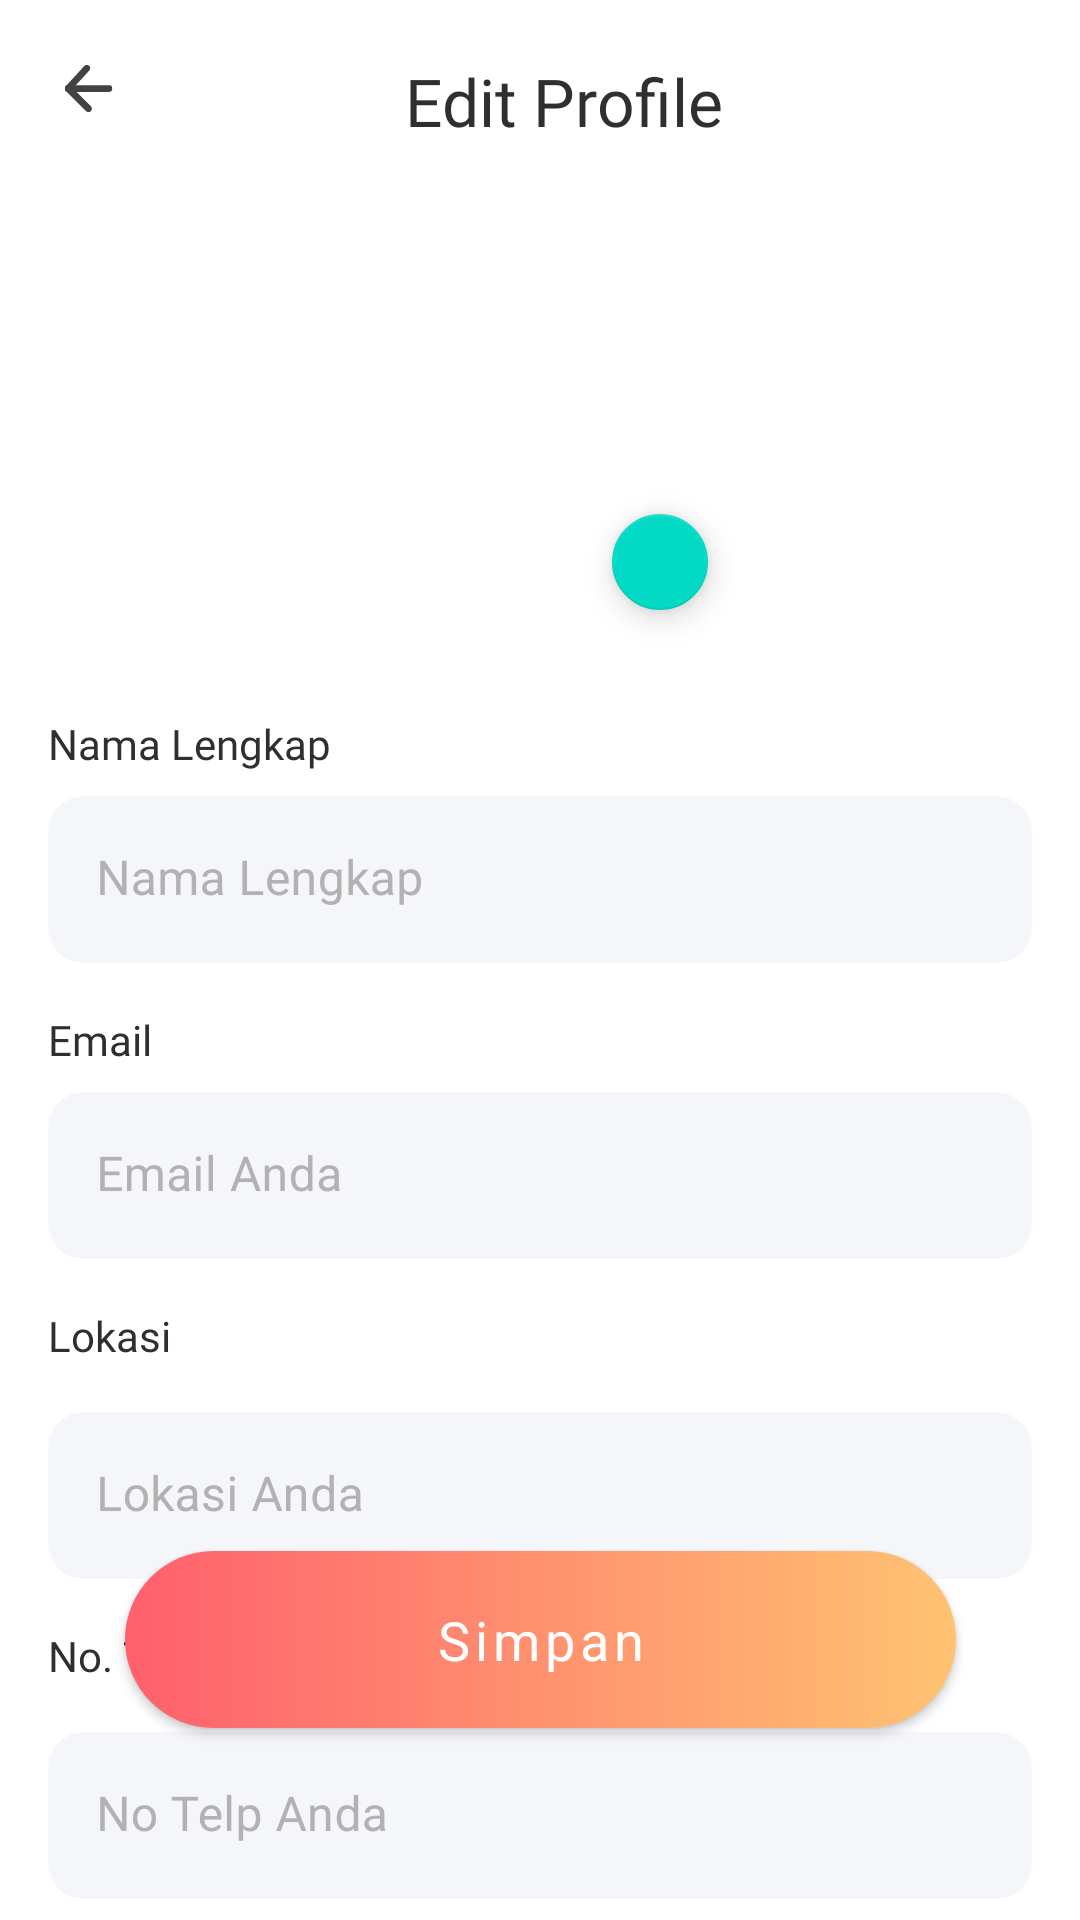

Locate icon controls on the screen. Image size 1080×1920, boxes as [x1=x1, y1=y1, x2=x2, y2=y2].
Icon of back button: [x1=65, y1=65, x2=113, y2=112]
